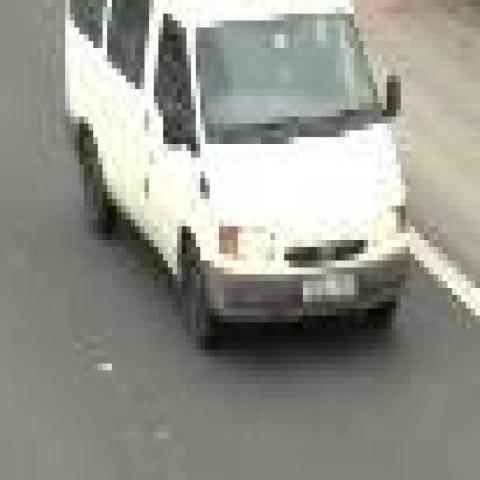van: (62, 0, 403, 350)
